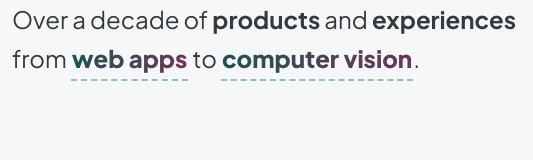
Test: CyclingDescription › changes from word after click animation completes
Click the text "web apps": x=130, y=59 top-left (72, 40), bottom-right (187, 78)
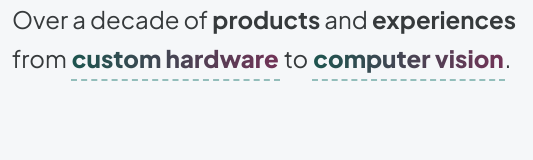
Expected: the text "web apps" is gone
